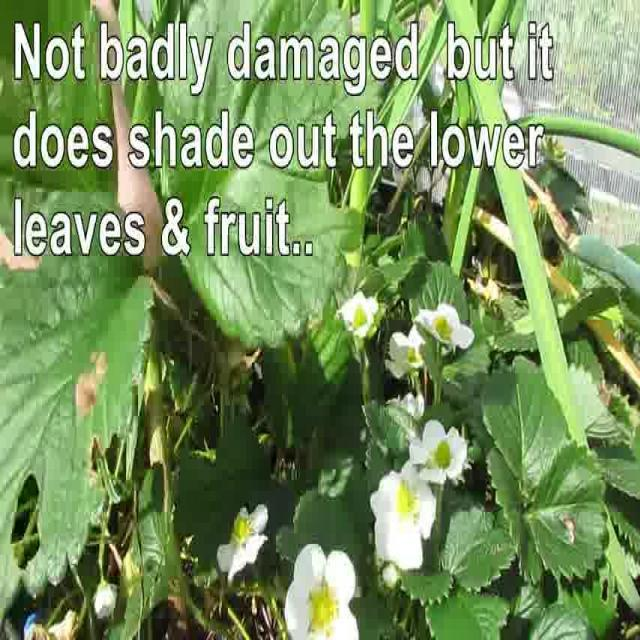Fruta sana: (436, 441, 452, 468)
